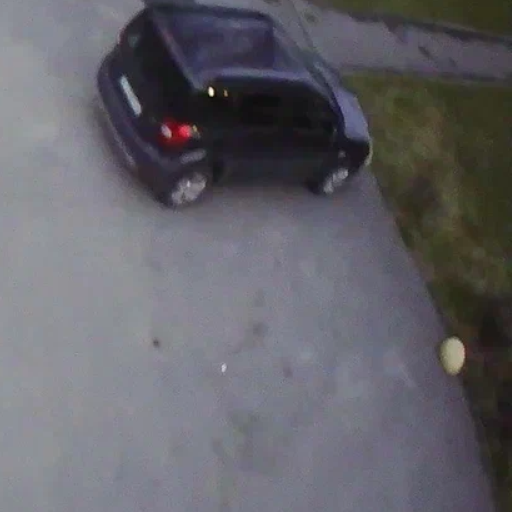Car: (95, 4, 375, 205)
